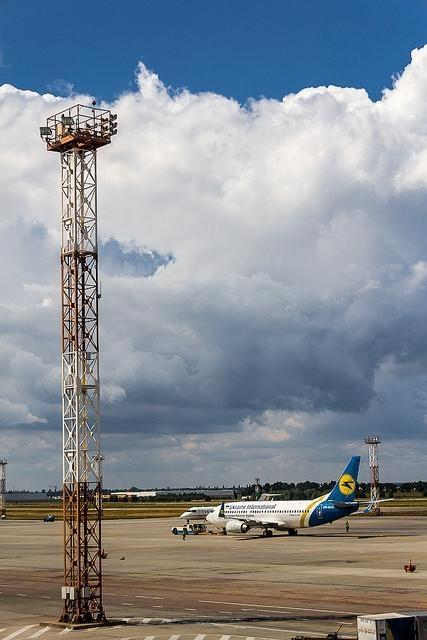truck: (170, 524, 202, 535)
